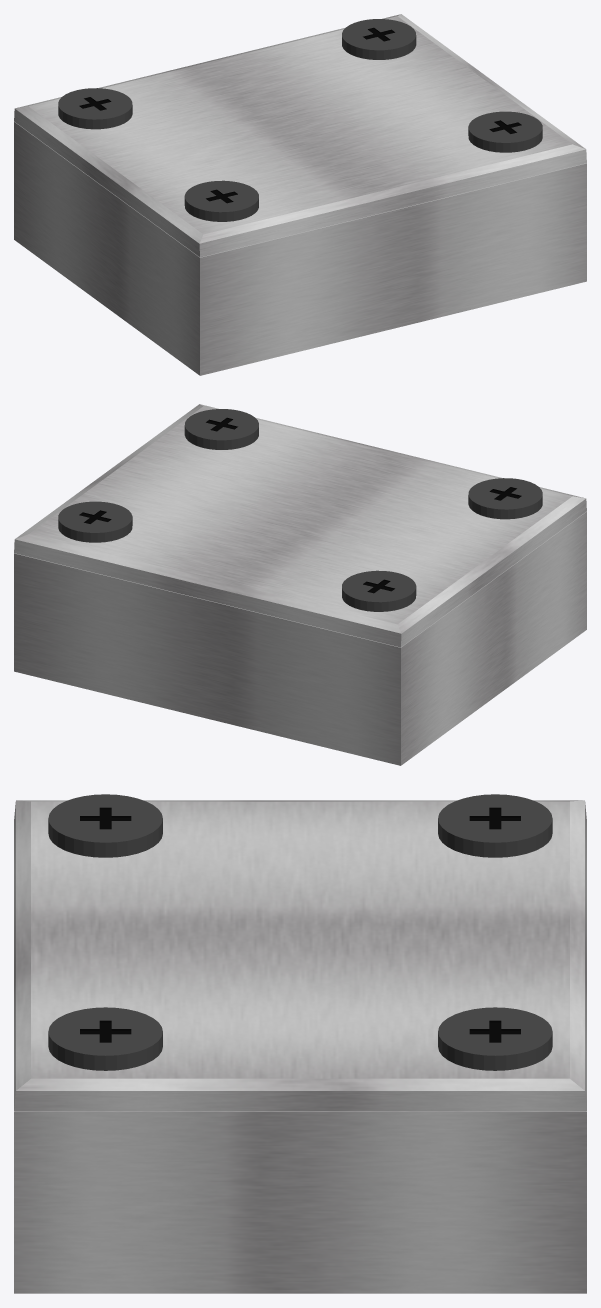
Rendered from lightbox.fbx.
3 views of the same model, one above another, from view 1: azimuth 30°, elevation 25°; view 2: azimuth 150°, elevation 25°; view 3: azimuth 270°, elevation 25° (orthographic). The views are drawn at different scales.
Visible parts, largest first — view 1: lightbox_lid, lightbox; view 2: lightbox_lid, lightbox; view 3: lightbox_lid, lightbox.
Part boxes in pixels (left/top/right/bottom): lightbox_lid: left=14, top=14, right=586, bottom=257; lightbox: left=14, top=121, right=586, bottom=375; lightbox_lid: left=14, top=404, right=586, bottom=647; lightbox: left=14, top=511, right=586, bottom=765; lightbox_lid: left=14, top=794, right=586, bottom=1111; lightbox: left=14, top=1111, right=586, bottom=1293.
Bounding box in the file's own units: 60 × 21.5 × 50.
